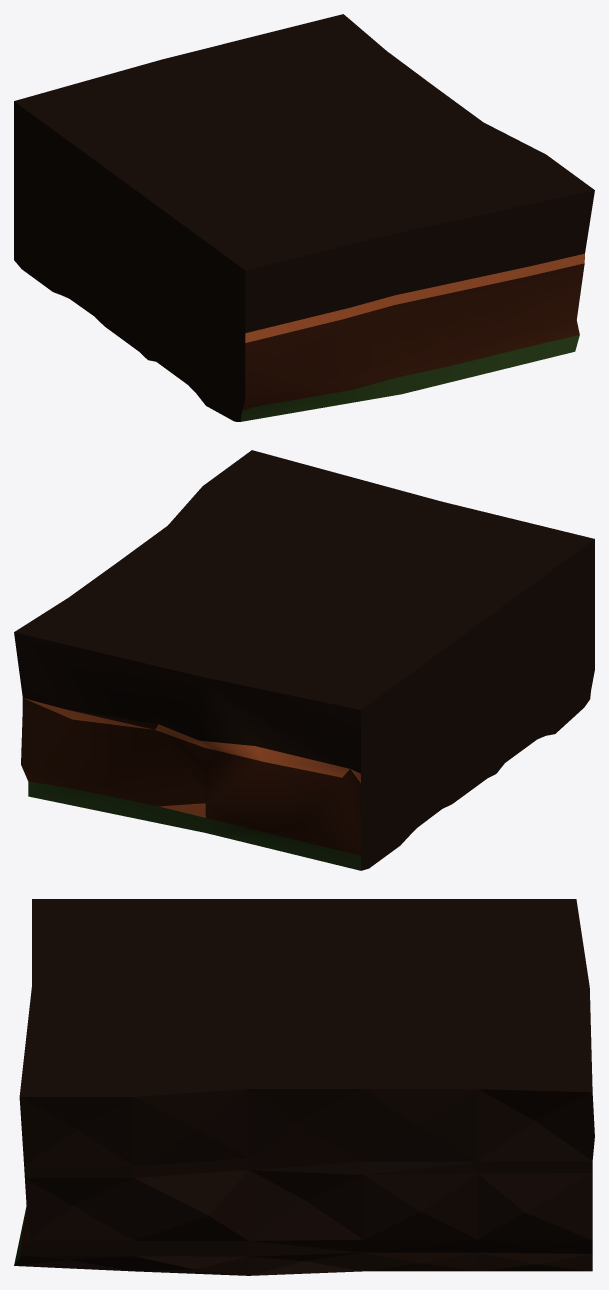
Rendered from floorpequeno.FBX.
3 views of the same model, one above another, from view 1: azimuth 30°, elevation 25°; view 2: azimuth 150°, elevation 25°; view 3: azimuth 270°, elevation 25° (orthographic). The views are drawn at different scales.
Parts seen in each view (by area): view 1: Object001; view 2: Object001; view 3: Object001.
Part boxes in pixels (left/top/right/bottom): Object001: left=14, top=14, right=594, bottom=421; Object001: left=14, top=450, right=594, bottom=870; Object001: left=14, top=899, right=594, bottom=1275.
Bounding box in the file's own units: 47.12 × 22.78 × 58.47.
